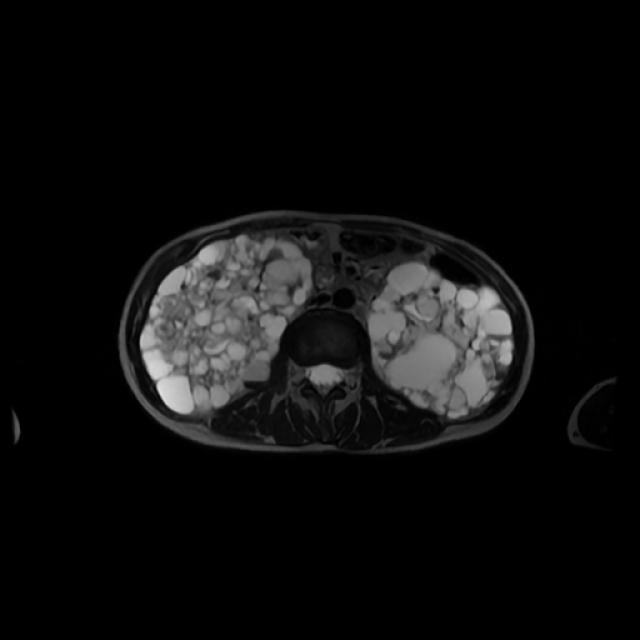sag: (138, 234, 314, 418)
sol: (368, 260, 514, 418)
